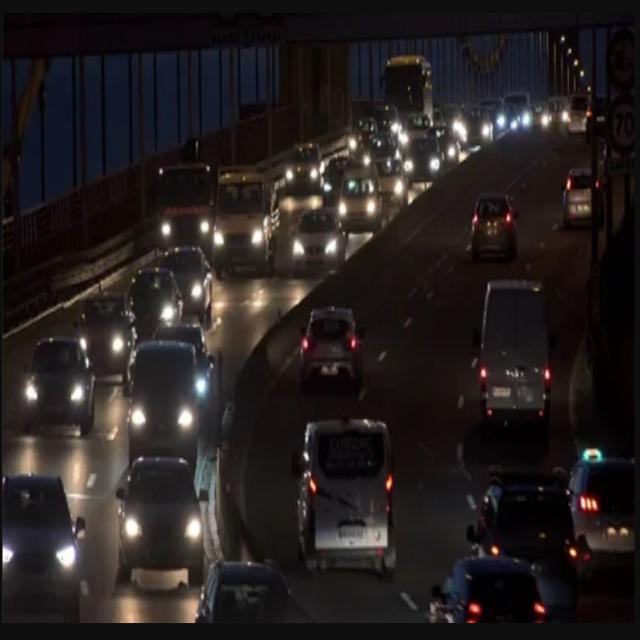headlights: (116, 504, 218, 556), (122, 400, 205, 443), (0, 534, 80, 578), (21, 378, 91, 416), (67, 324, 130, 356), (154, 213, 212, 247), (214, 226, 266, 258), (289, 236, 343, 261), (337, 199, 381, 222), (282, 163, 324, 184)
